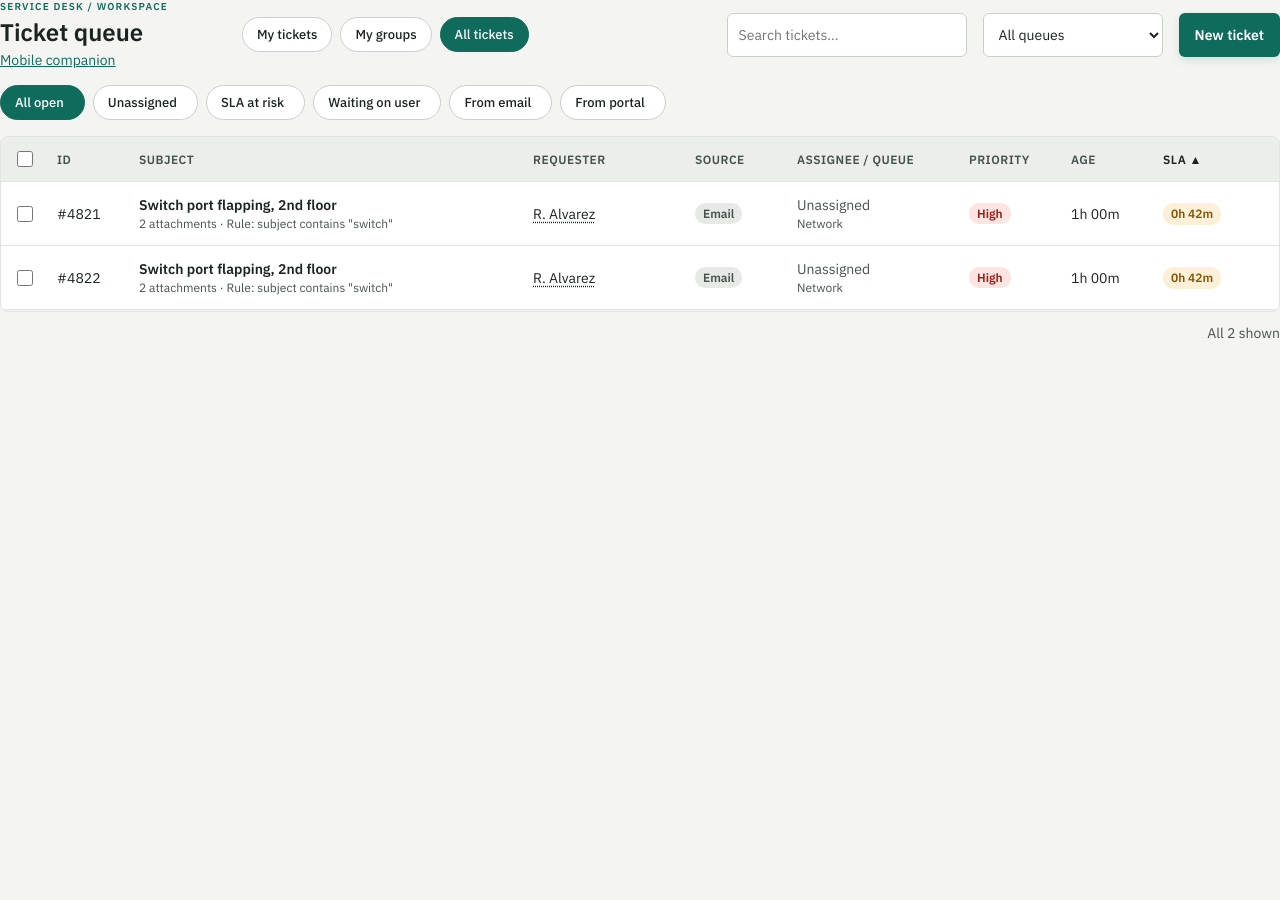
Scenario: partial success removes only deleted tickets from selection
Click the checkbox named "Select #4821" at (25, 214), box [17, 206, 33, 222]
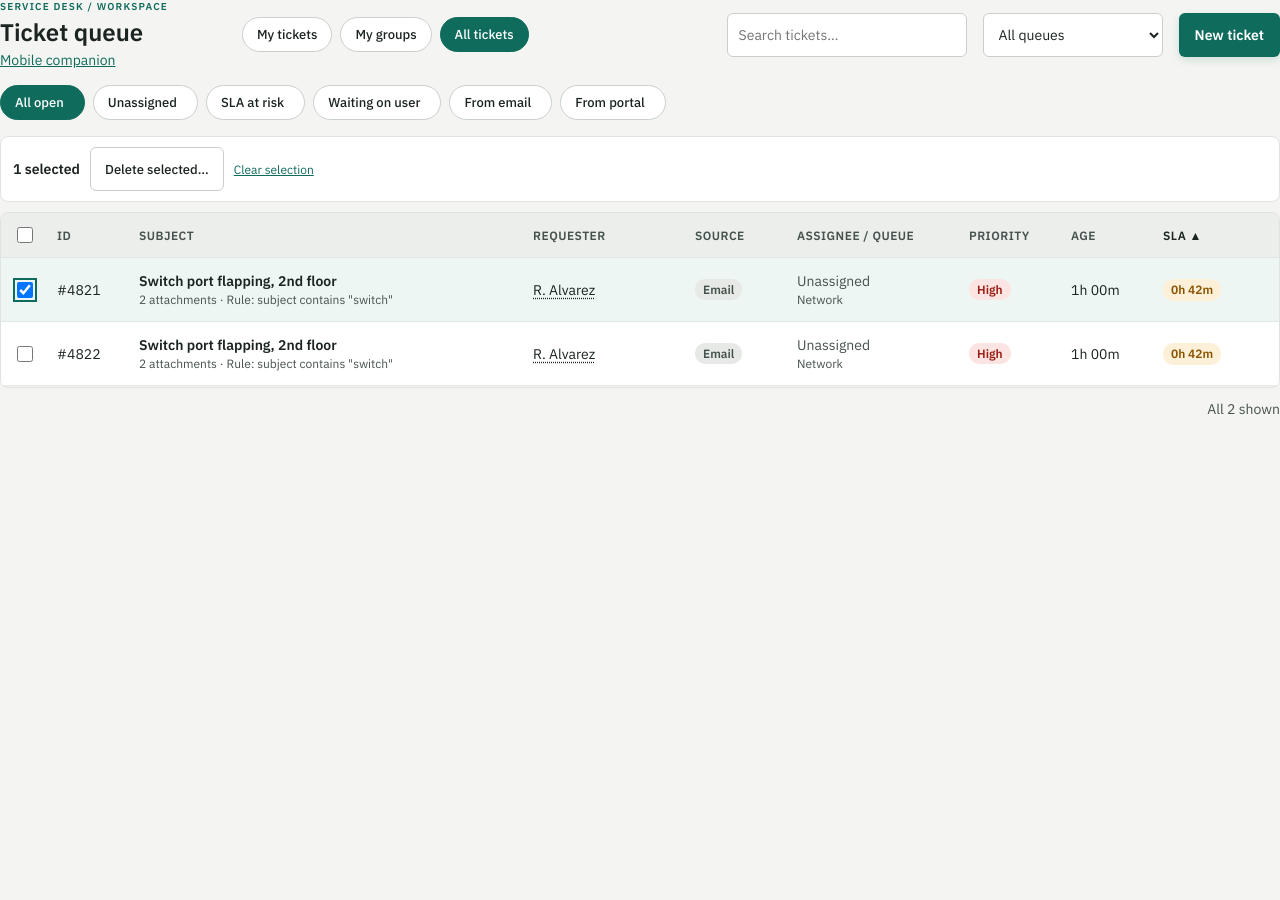
Click the checkbox named "Select #4822" at (25, 354), box [17, 346, 33, 362]
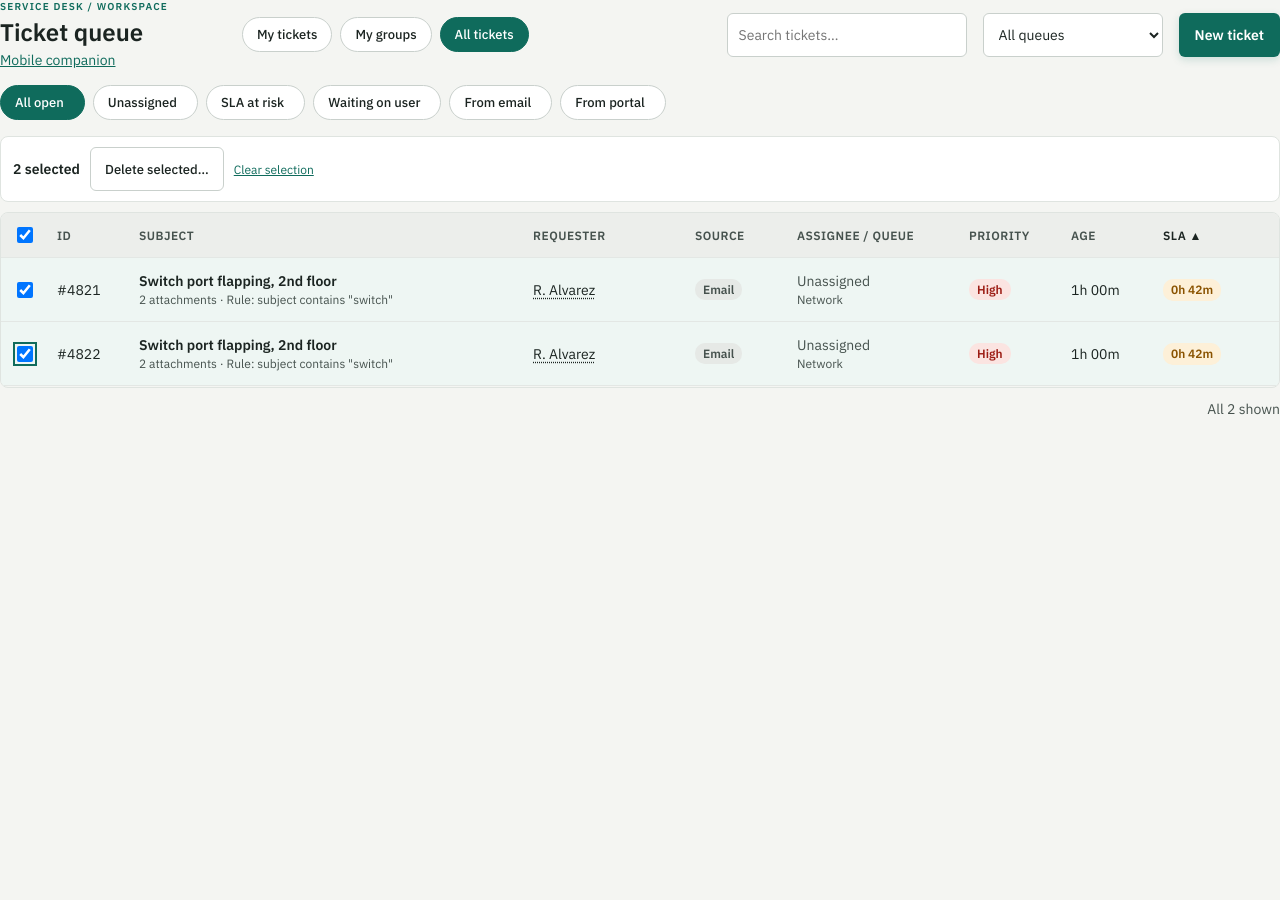
Click the button "Delete selected…" at (157, 169), box [90, 147, 224, 191]
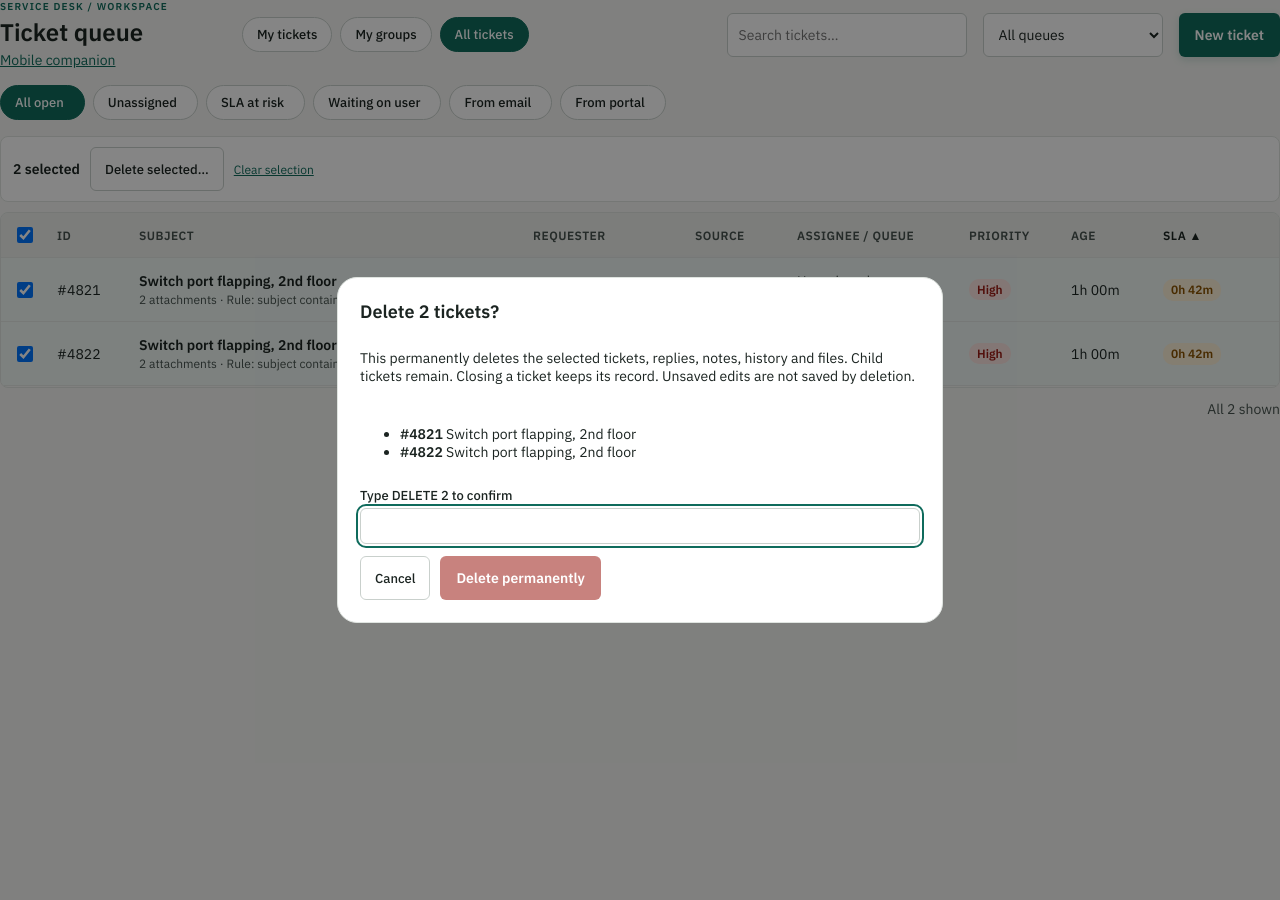
Type "DELETE 2" into the field labelled "Type DELETE 2 to confirm" at (640, 526), box [360, 508, 920, 544]
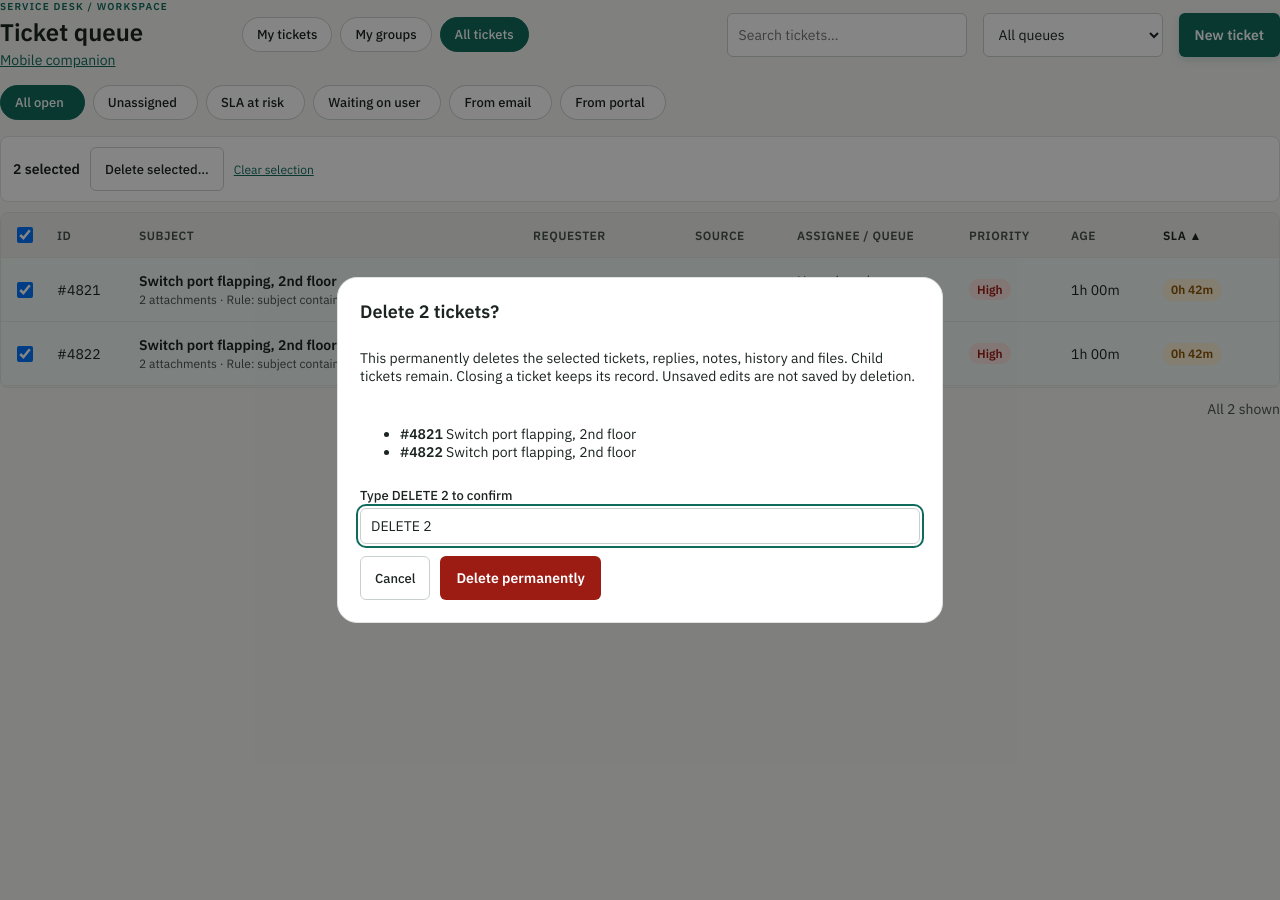
Click the button "Delete permanently" at (521, 578), box [440, 556, 601, 600]
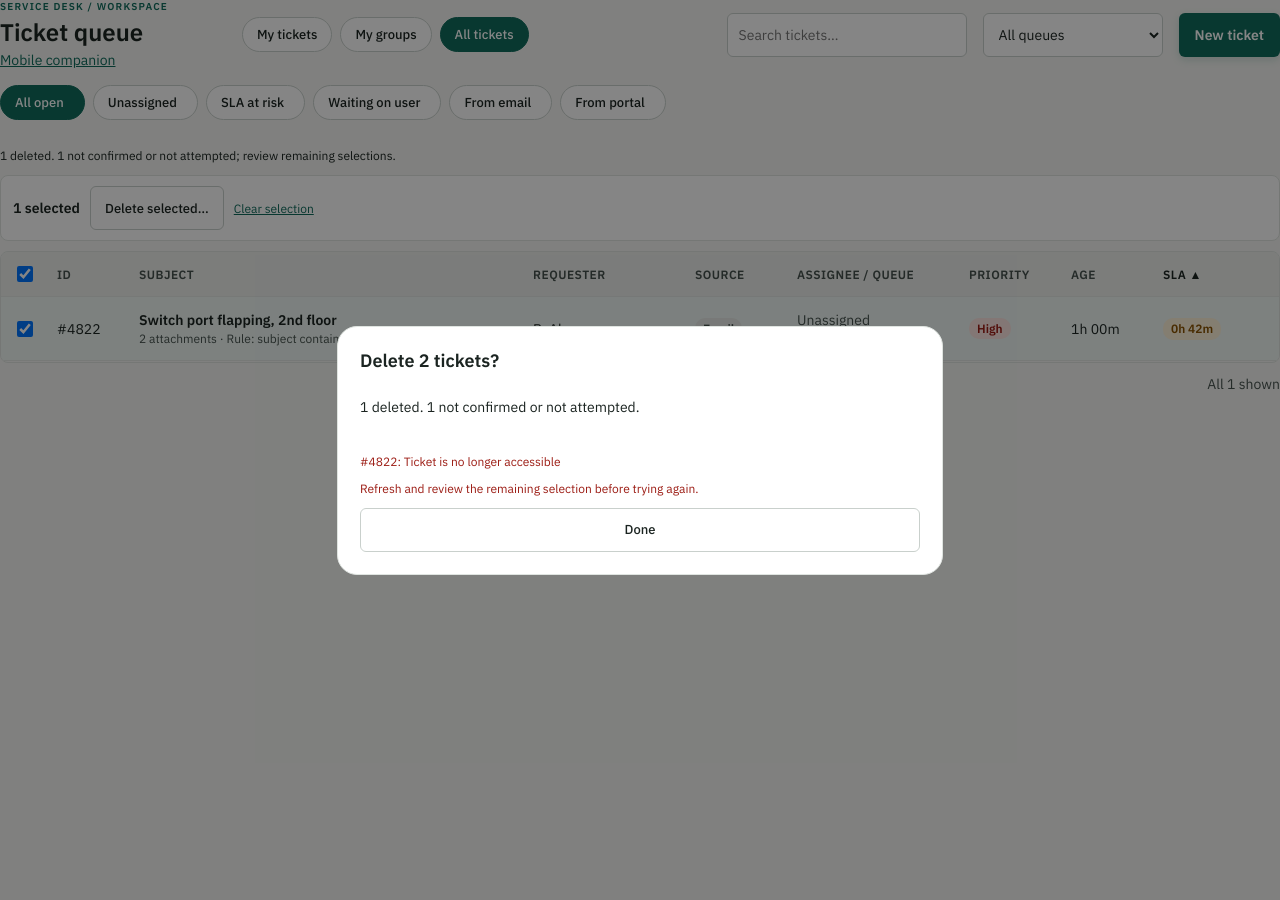
expect the checkbox named "Select #4822" is checked: met, box [17, 320, 33, 336]
expect the message "1 deleted. 1 not confirmed or not attempted." is shown: met, box [360, 398, 640, 416]
